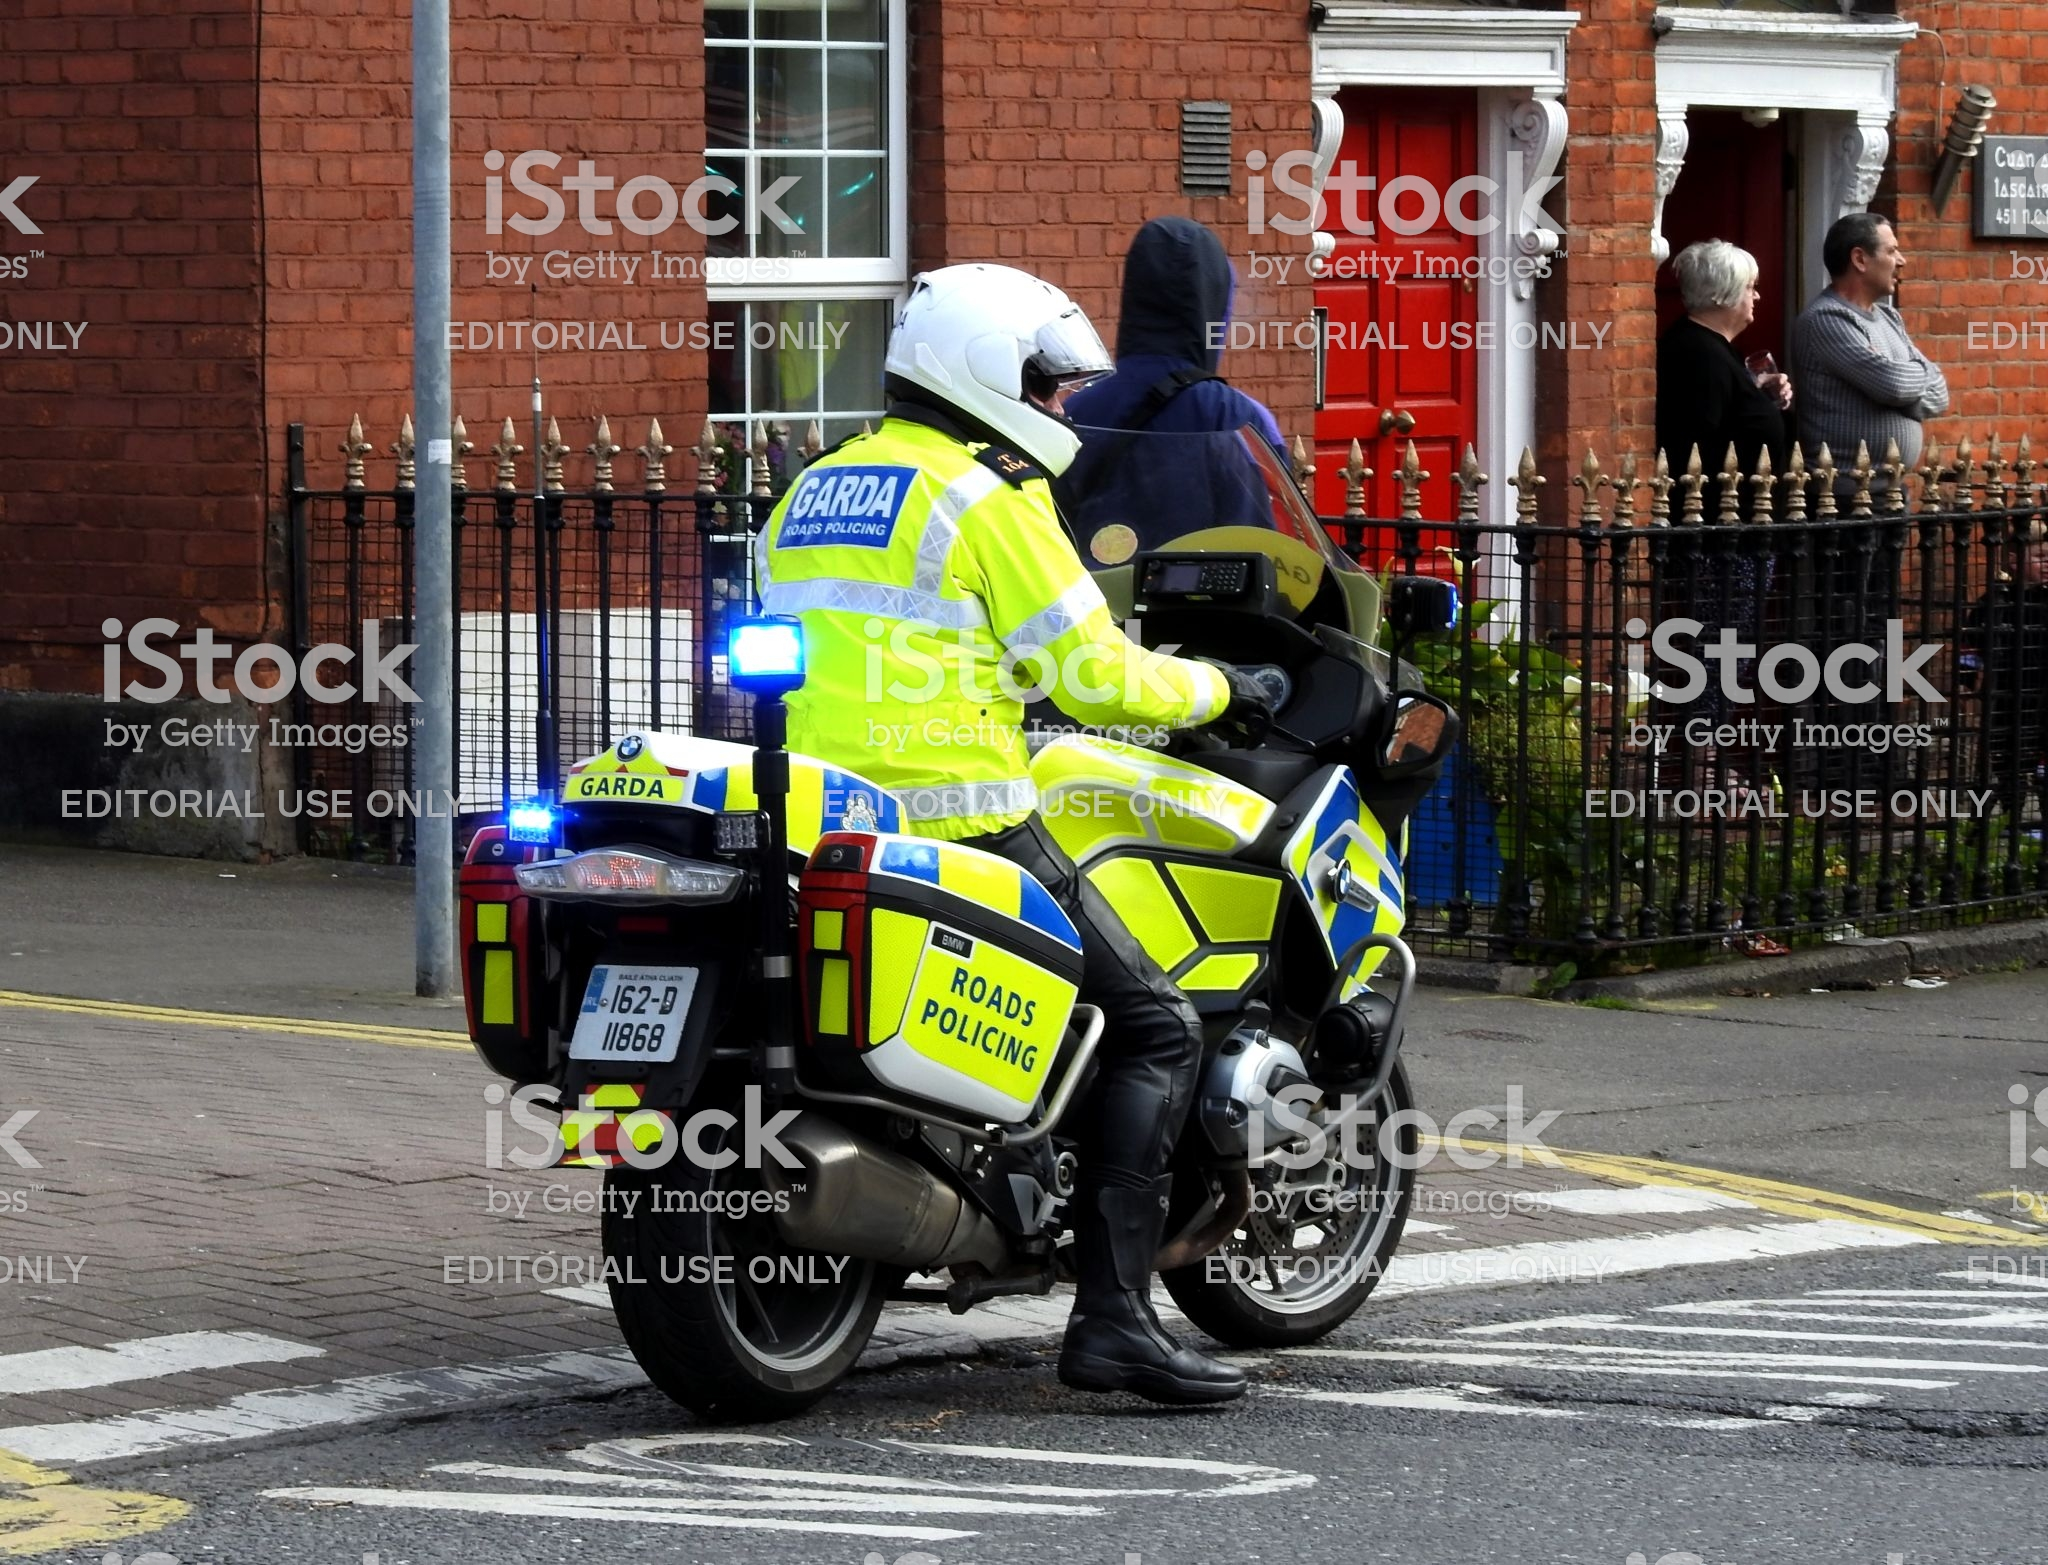helmet: (853, 252, 1100, 464)
